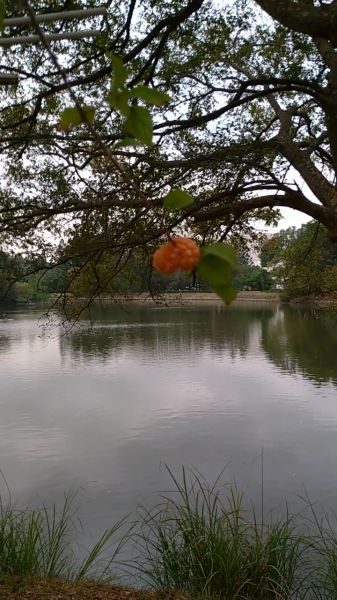eggs: (149, 229, 207, 281)
